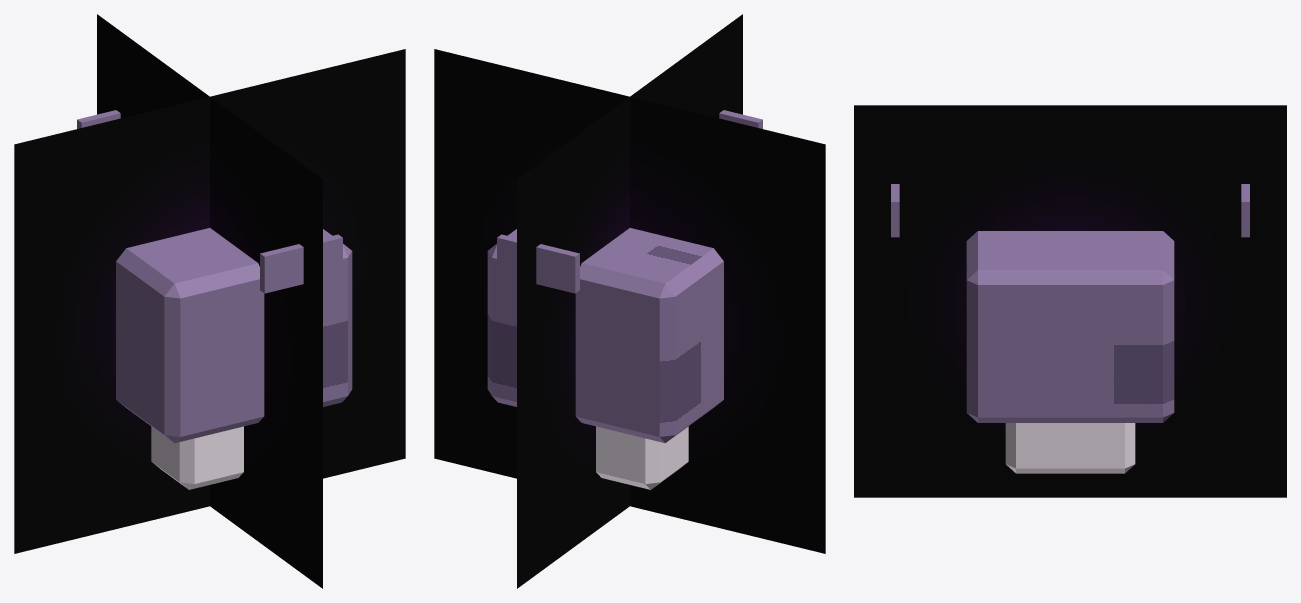
The model's file is tent_1_emission.obj.
The picture shows the model from 3 angles, left to right: view 1: azimuth 30°, elevation 25°; view 2: azimuth 150°, elevation 25°; view 3: azimuth 270°, elevation 25°; orthographic projection. The views are drawn at different scales.
Visible parts, largest first — view 1: model; view 2: model; view 3: model.
Boxes of the visible parts, x1,y1,x2,y2 form: model: (14,14,405,588); model: (434,14,825,588); model: (854,105,1286,497).
Bounding box in the file's own units: 0.625 × 0.625 × 0.625.
